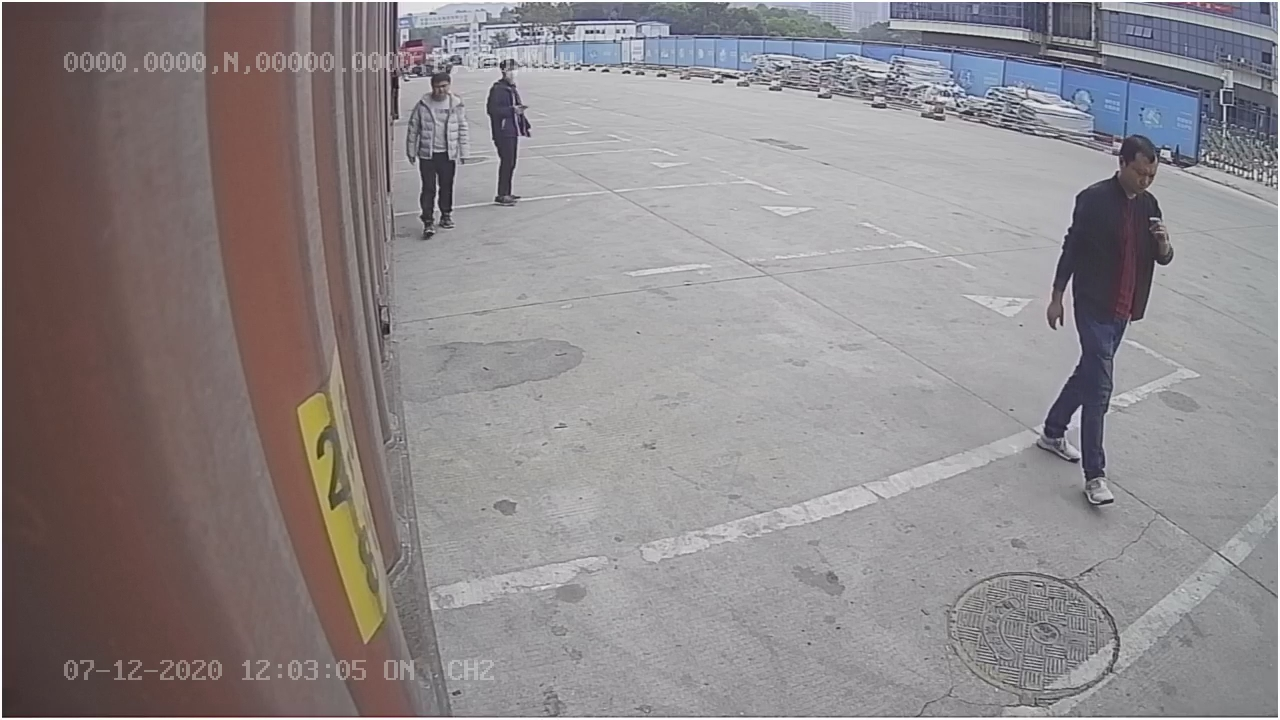person: (1036, 132, 1174, 507)
